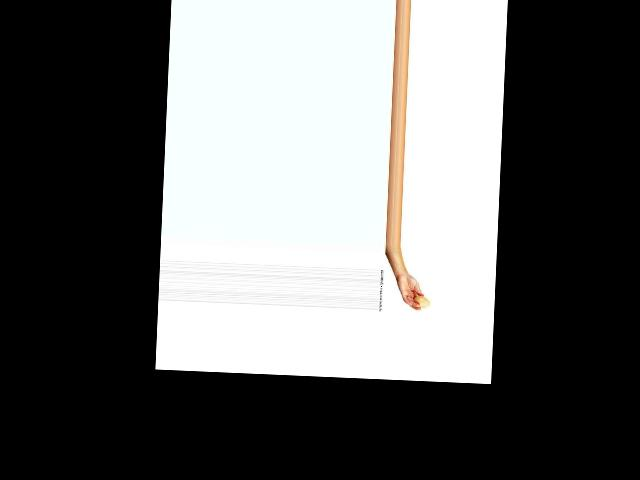egg: (412, 295, 430, 308)
